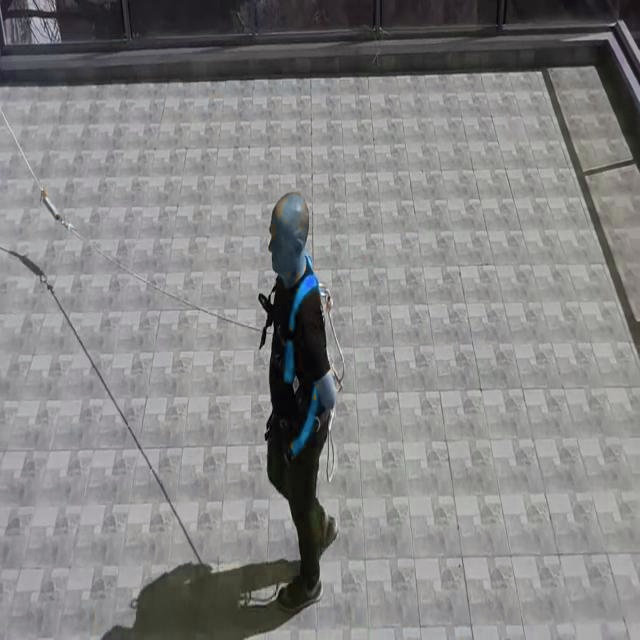safety belt: (258, 268, 350, 476)
